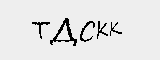Д: (49, 17, 77, 47)
К: (95, 18, 109, 41), (108, 19, 122, 39)
С: (78, 18, 96, 43)
Т: (29, 19, 50, 41)
